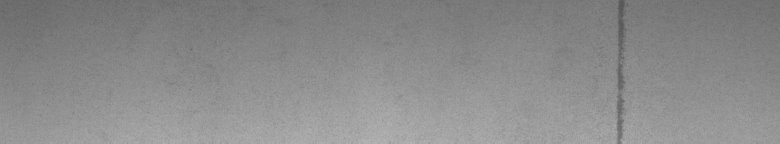hd: (612, 4, 628, 136)
